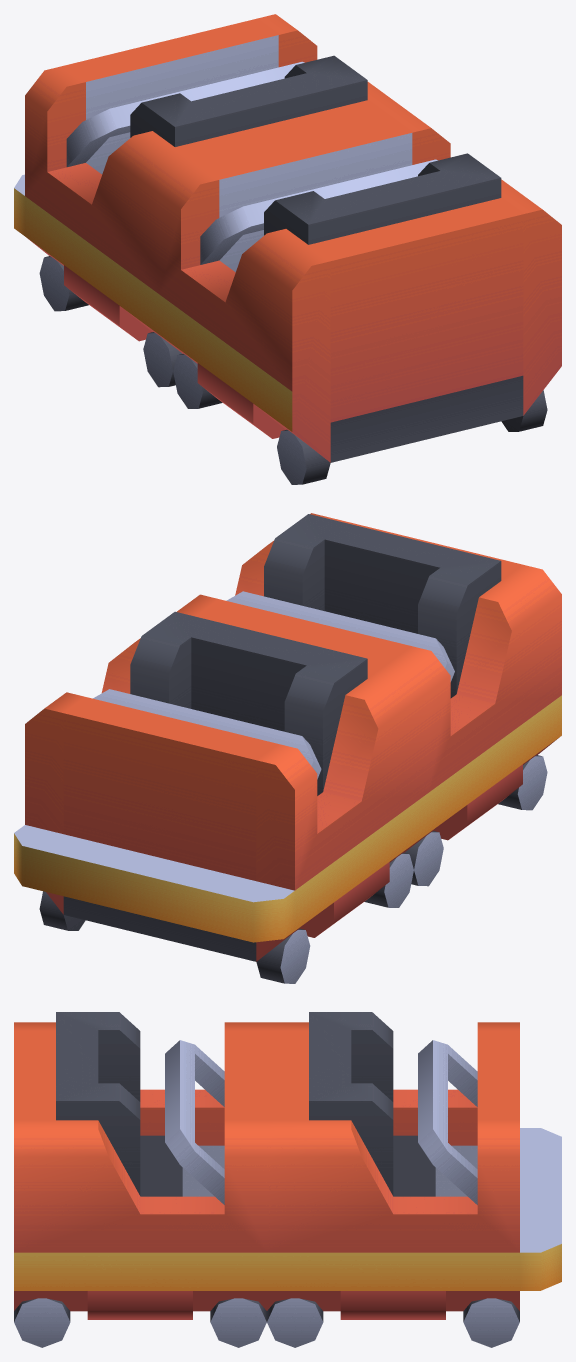
Rendered from kenney-coaster-train.glb.
3 views of the same model, one above another, from view 1: azimuth 30°, elevation 25°; view 2: azimuth 150°, elevation 25°; view 3: azimuth 270°, elevation 25° (orthographic). The views are drawn at different scales.
Visible parts, largest first — view 1: coaster-train; view 2: coaster-train; view 3: coaster-train.
Boxes of the visible parts, left/top/right/bottom form: coaster-train: left=14, top=14, right=561, bottom=484; coaster-train: left=14, top=513, right=561, bottom=983; coaster-train: left=14, top=1012, right=561, bottom=1347.
Bounding box in the file's own units: 0.7 × 0.617 × 1.3.
Materials: 1 (1 with a texture image).
